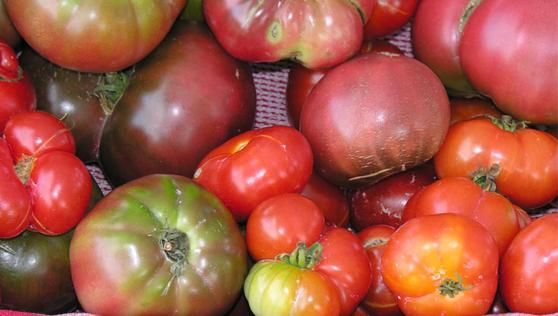tomato: (72, 169, 249, 316), (295, 44, 456, 187), (103, 27, 257, 176), (248, 196, 371, 316), (377, 209, 497, 316), (3, 1, 180, 66), (457, 8, 558, 119), (441, 109, 558, 203), (199, 120, 321, 208), (500, 205, 558, 306)
